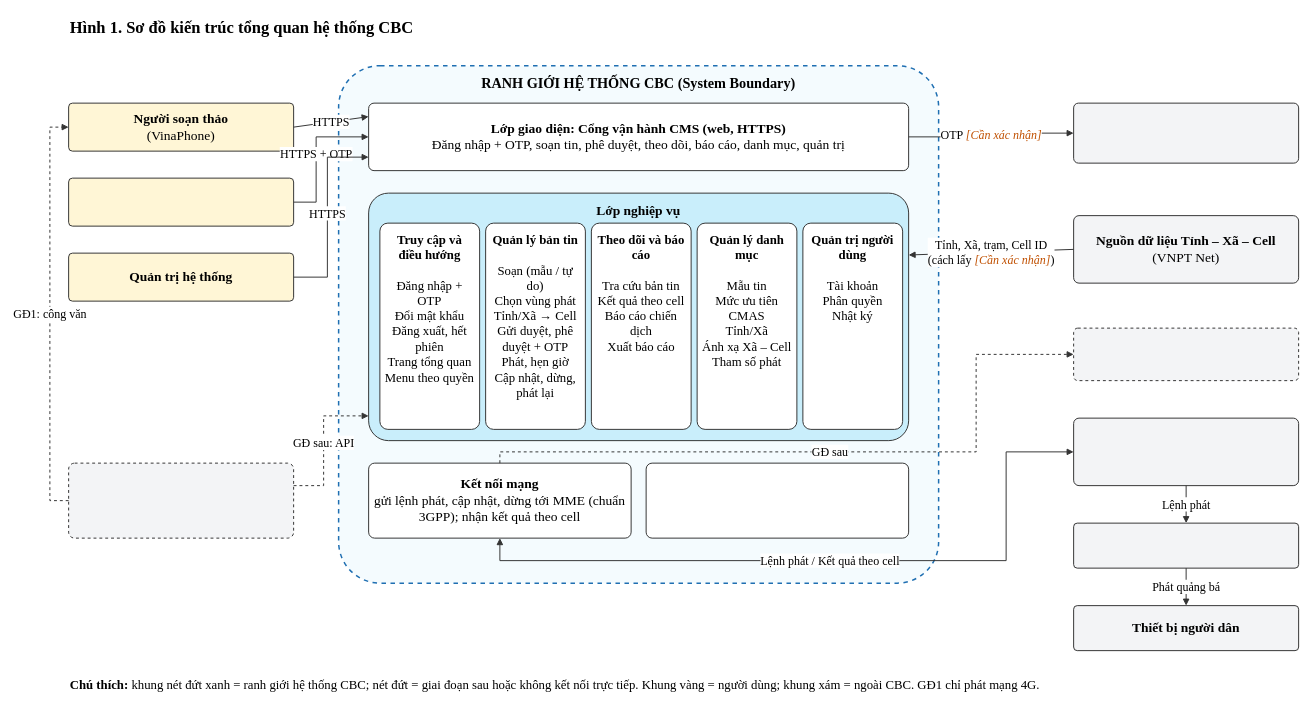
Image size: 1312x716. Some labels were removed from this diagram. The shapes that lost their labels are listed below. From the top down, each one's centre as x and y in pixels, then its label:
At (1186,132): "Hệ thống gửi SMS (VinaPhone)".
At (181,201): "Người phê duyệt (VinaPhone)".
At (1186,354): "AMF (5G) GĐ sau".
At (1186,451): "MME (mạng VNPT Net)".
At (181,500): "Cơ quan chức năng (BCĐ PCTT, Cục Viễn thông…)".
At (777,500): "Cơ sở dữ liệu bản tin, Tỉnh/Xã – Cell, mẫu tin, người dùng, nhật ký".
At (1186,545): "Trạm 4G (cell)".
